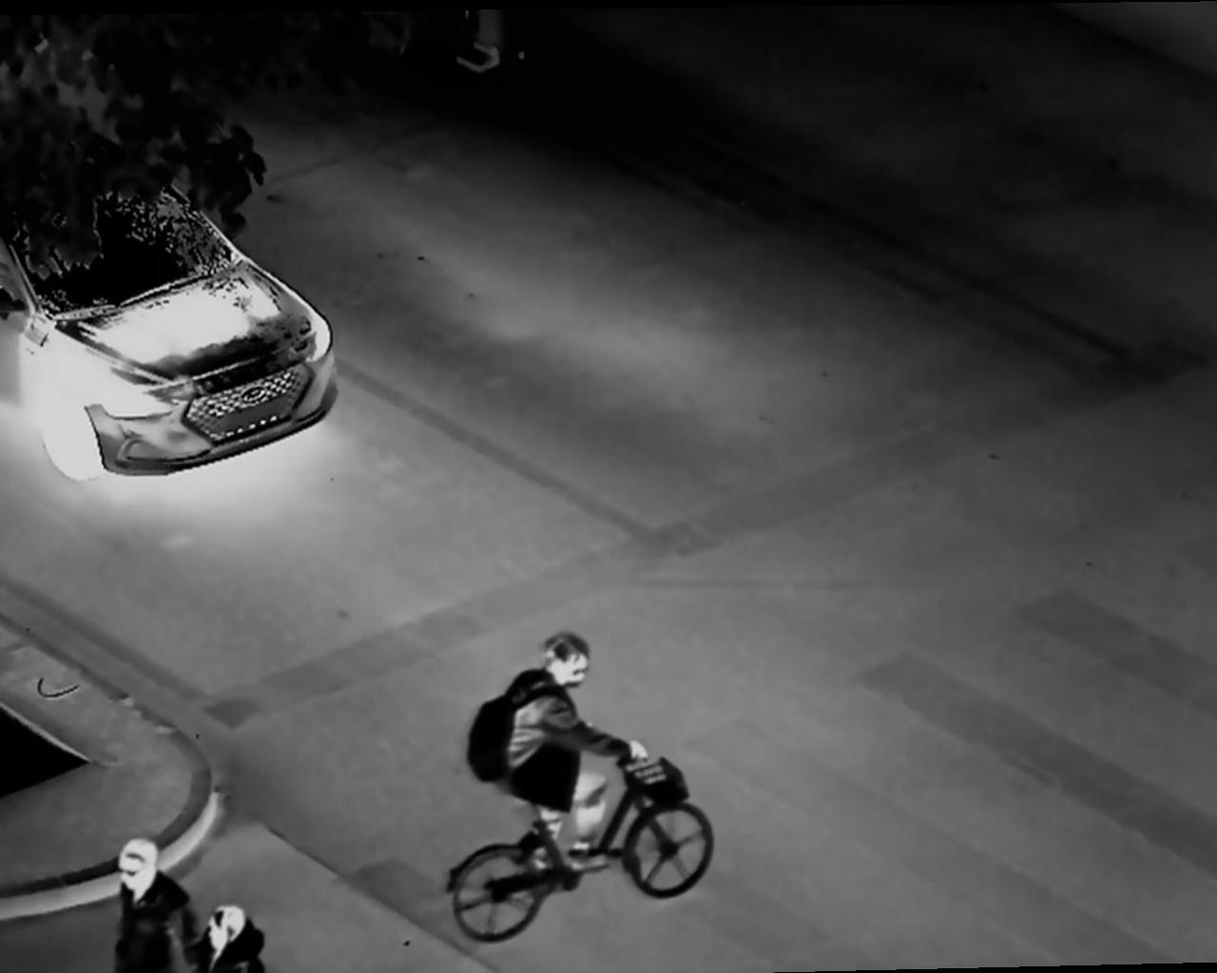person: (467, 620, 651, 910), (101, 834, 187, 973), (182, 901, 259, 973)
